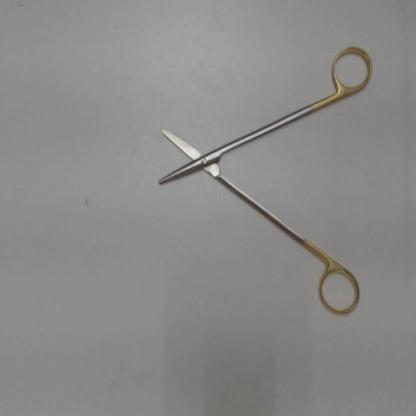7 Metzenbaum Scissors: (152, 40, 376, 325)
